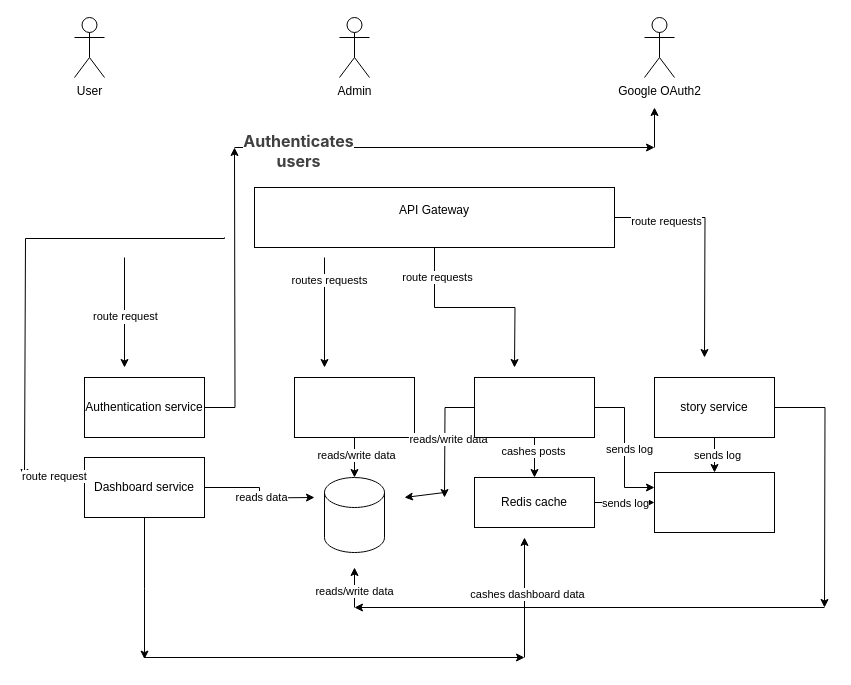
Image size: 851x685. Some labels were removed from this diagram. Each missing label, with the centre of its shape:
community service: point (354, 407)
Database: point (354, 514)
opensearch: point (714, 502)
post service: point (534, 407)
